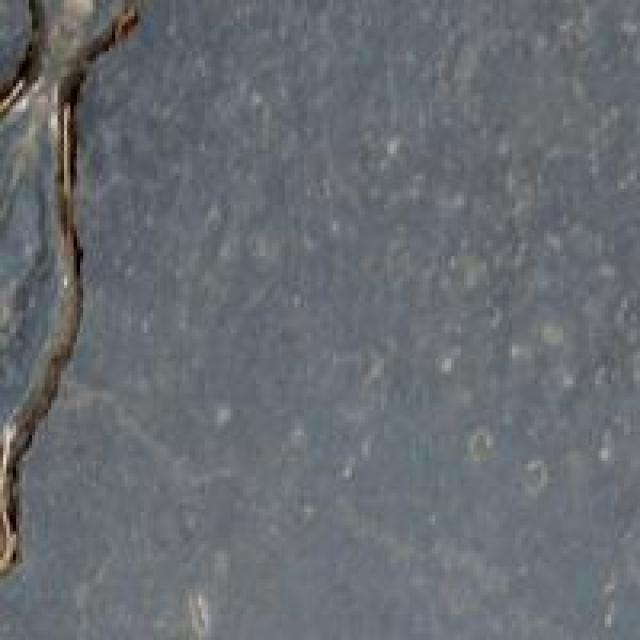crack: (0, 0, 190, 588)
